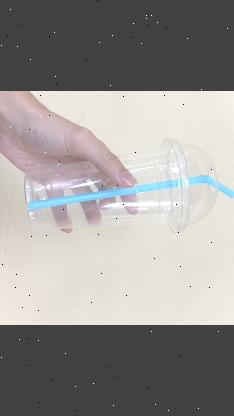Others: (23, 137, 234, 232)
